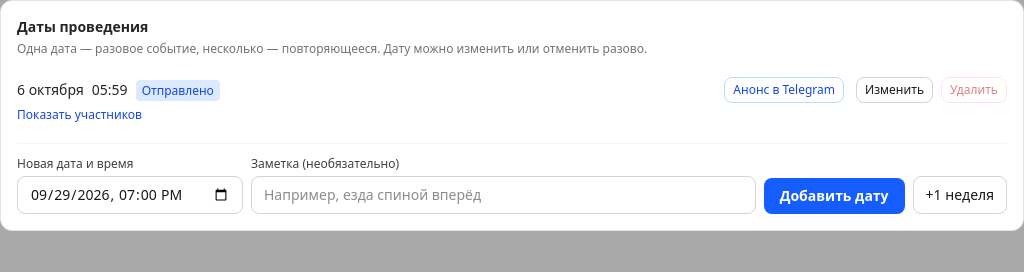
Scenario: EventDatesManager › показывает бейдж «Отправлено» и счётчик участников для анонсированной даты
This screenshot has width=1024, height=272.
Expected: the text "Отправлено" is shown, [136,80,220,101]
Click the button "Показать участников" at (80, 115), box [17,107,142,123]
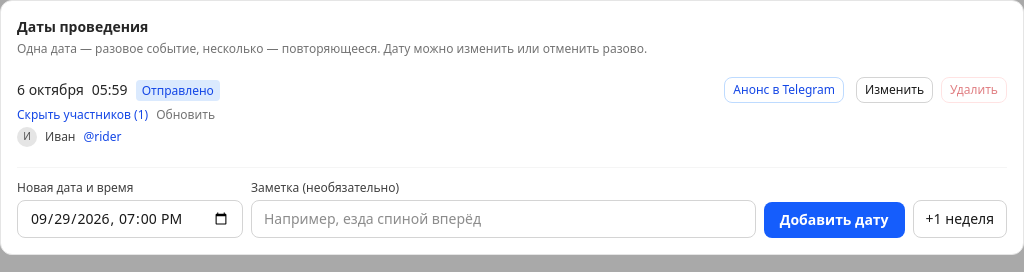
Result: the text "Иван" is shown at [45,129,76,145]
